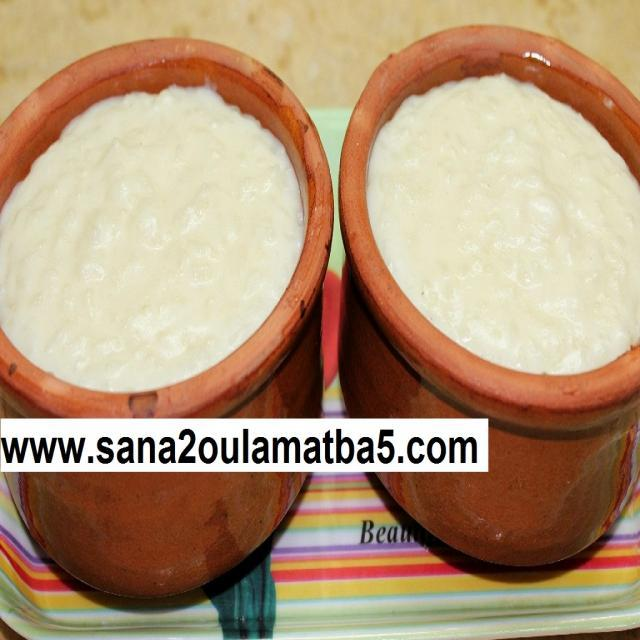roz blabn: (0, 78, 320, 412), (363, 66, 640, 389)
